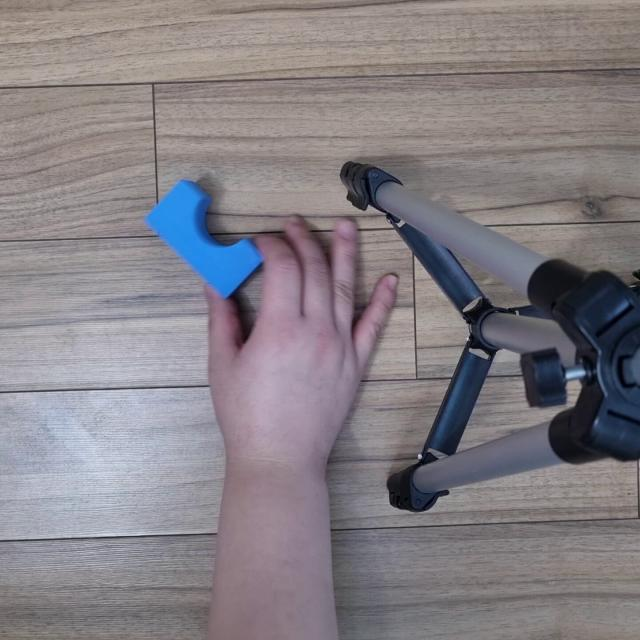block: (150, 178, 268, 306)
hand: (209, 210, 405, 492)
